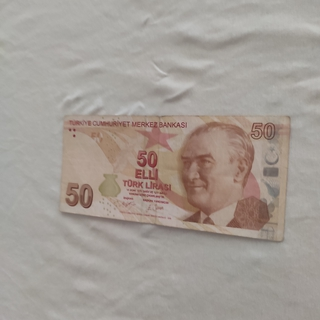50TLFront: (59, 114, 291, 242)
